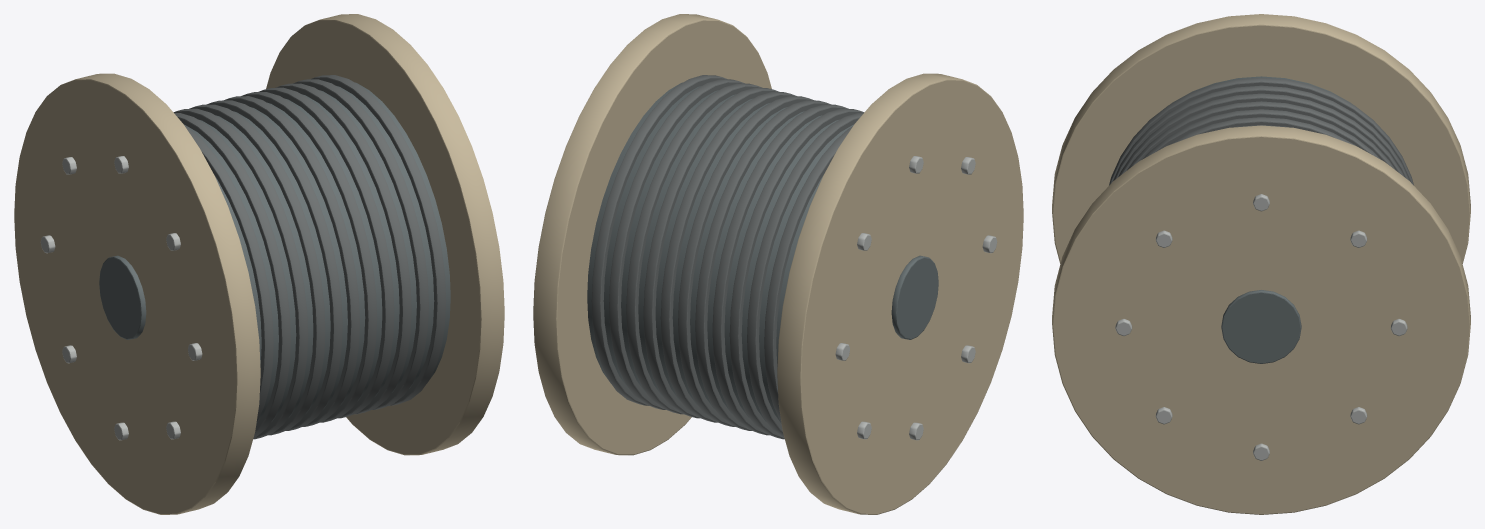
The model's file is F1_CableReel.fbx.
3 renders of one model, left to right at view 1: azimuth 30°, elevation 25°; view 2: azimuth 150°, elevation 25°; view 3: azimuth 270°, elevation 25°, orthographic. The views are drawn at different scales.
Parts seen in each view (by area): view 1: F1_CableReel_LOD0; view 2: F1_CableReel_LOD0; view 3: F1_CableReel_LOD0.
Part boxes in pixels (x1,y1,x2,y2): F1_CableReel_LOD0: (14,14,504,514); F1_CableReel_LOD0: (533,14,1023,514); F1_CableReel_LOD0: (1052,14,1470,514).
Size of what is drawn, in the model's own units: 106 by 146 by 146.
